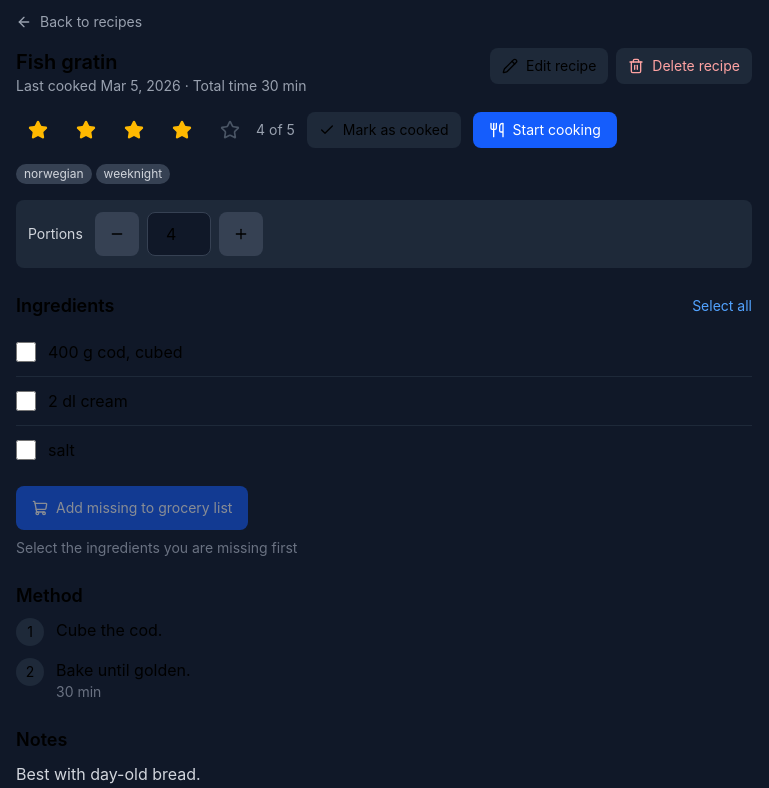
Test: RecipeDetail › pushes exactly the selected ingredients to the grocery list
This screenshot has width=769, height=788.
Expected: the heading "Fish gratin" is shown, [16,50,118,74]
What coordinates should you click on to do the following:
click the checkbox named "Select ingredient: 400 g cod, cubed"
I would click on:
 (26, 352)
Its box is [16,342,36,362].
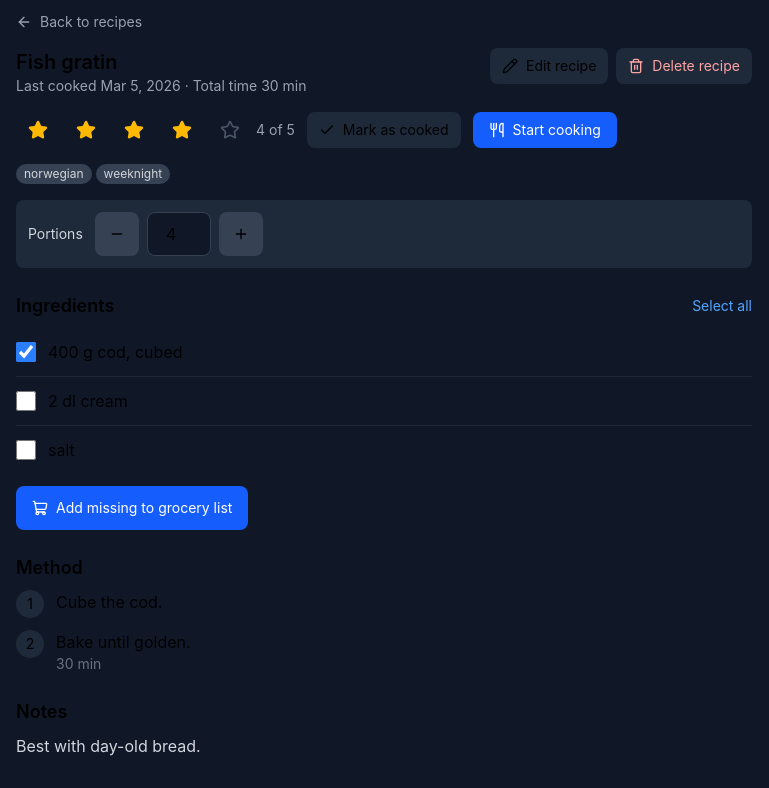
What coordinates should you click on to do the following:
click the checkbox named "Select ingredient: salt"
I would click on:
 (26, 450)
Its box is [16,440,36,460].
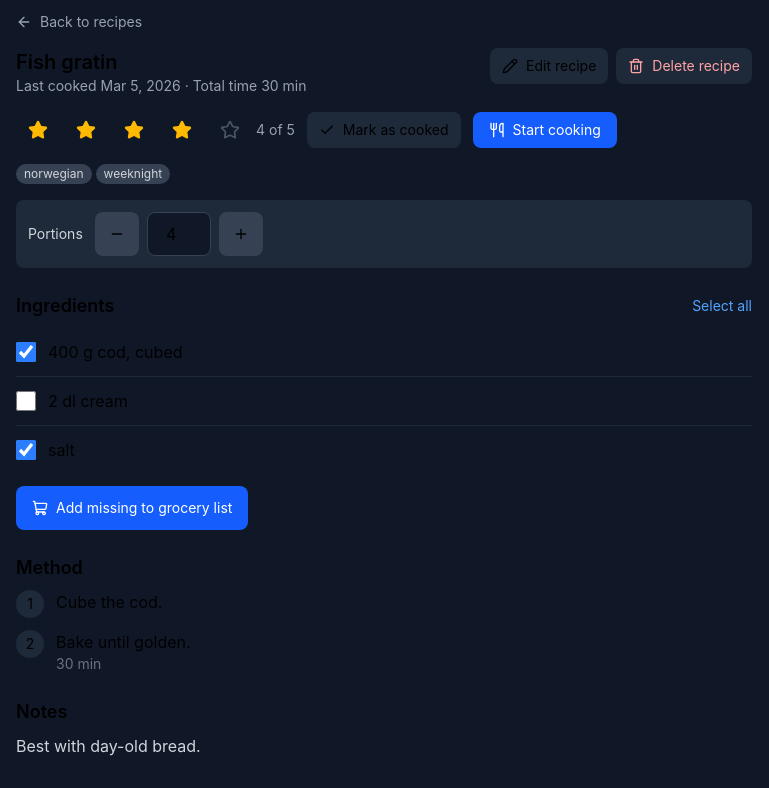
What coordinates should you click on to do the following:
click the button "Add missing to grocery list"
I would click on:
 (132, 508)
Its box is [16,486,248,530].
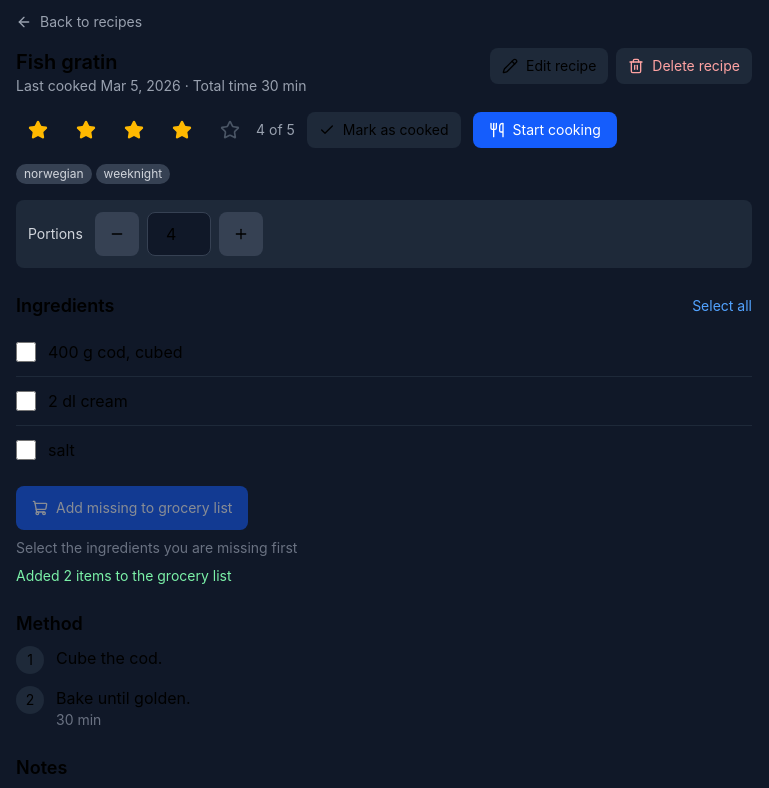
Expected: the text "Added 2 items to the grocery list" is shown, [16,567,232,584]
